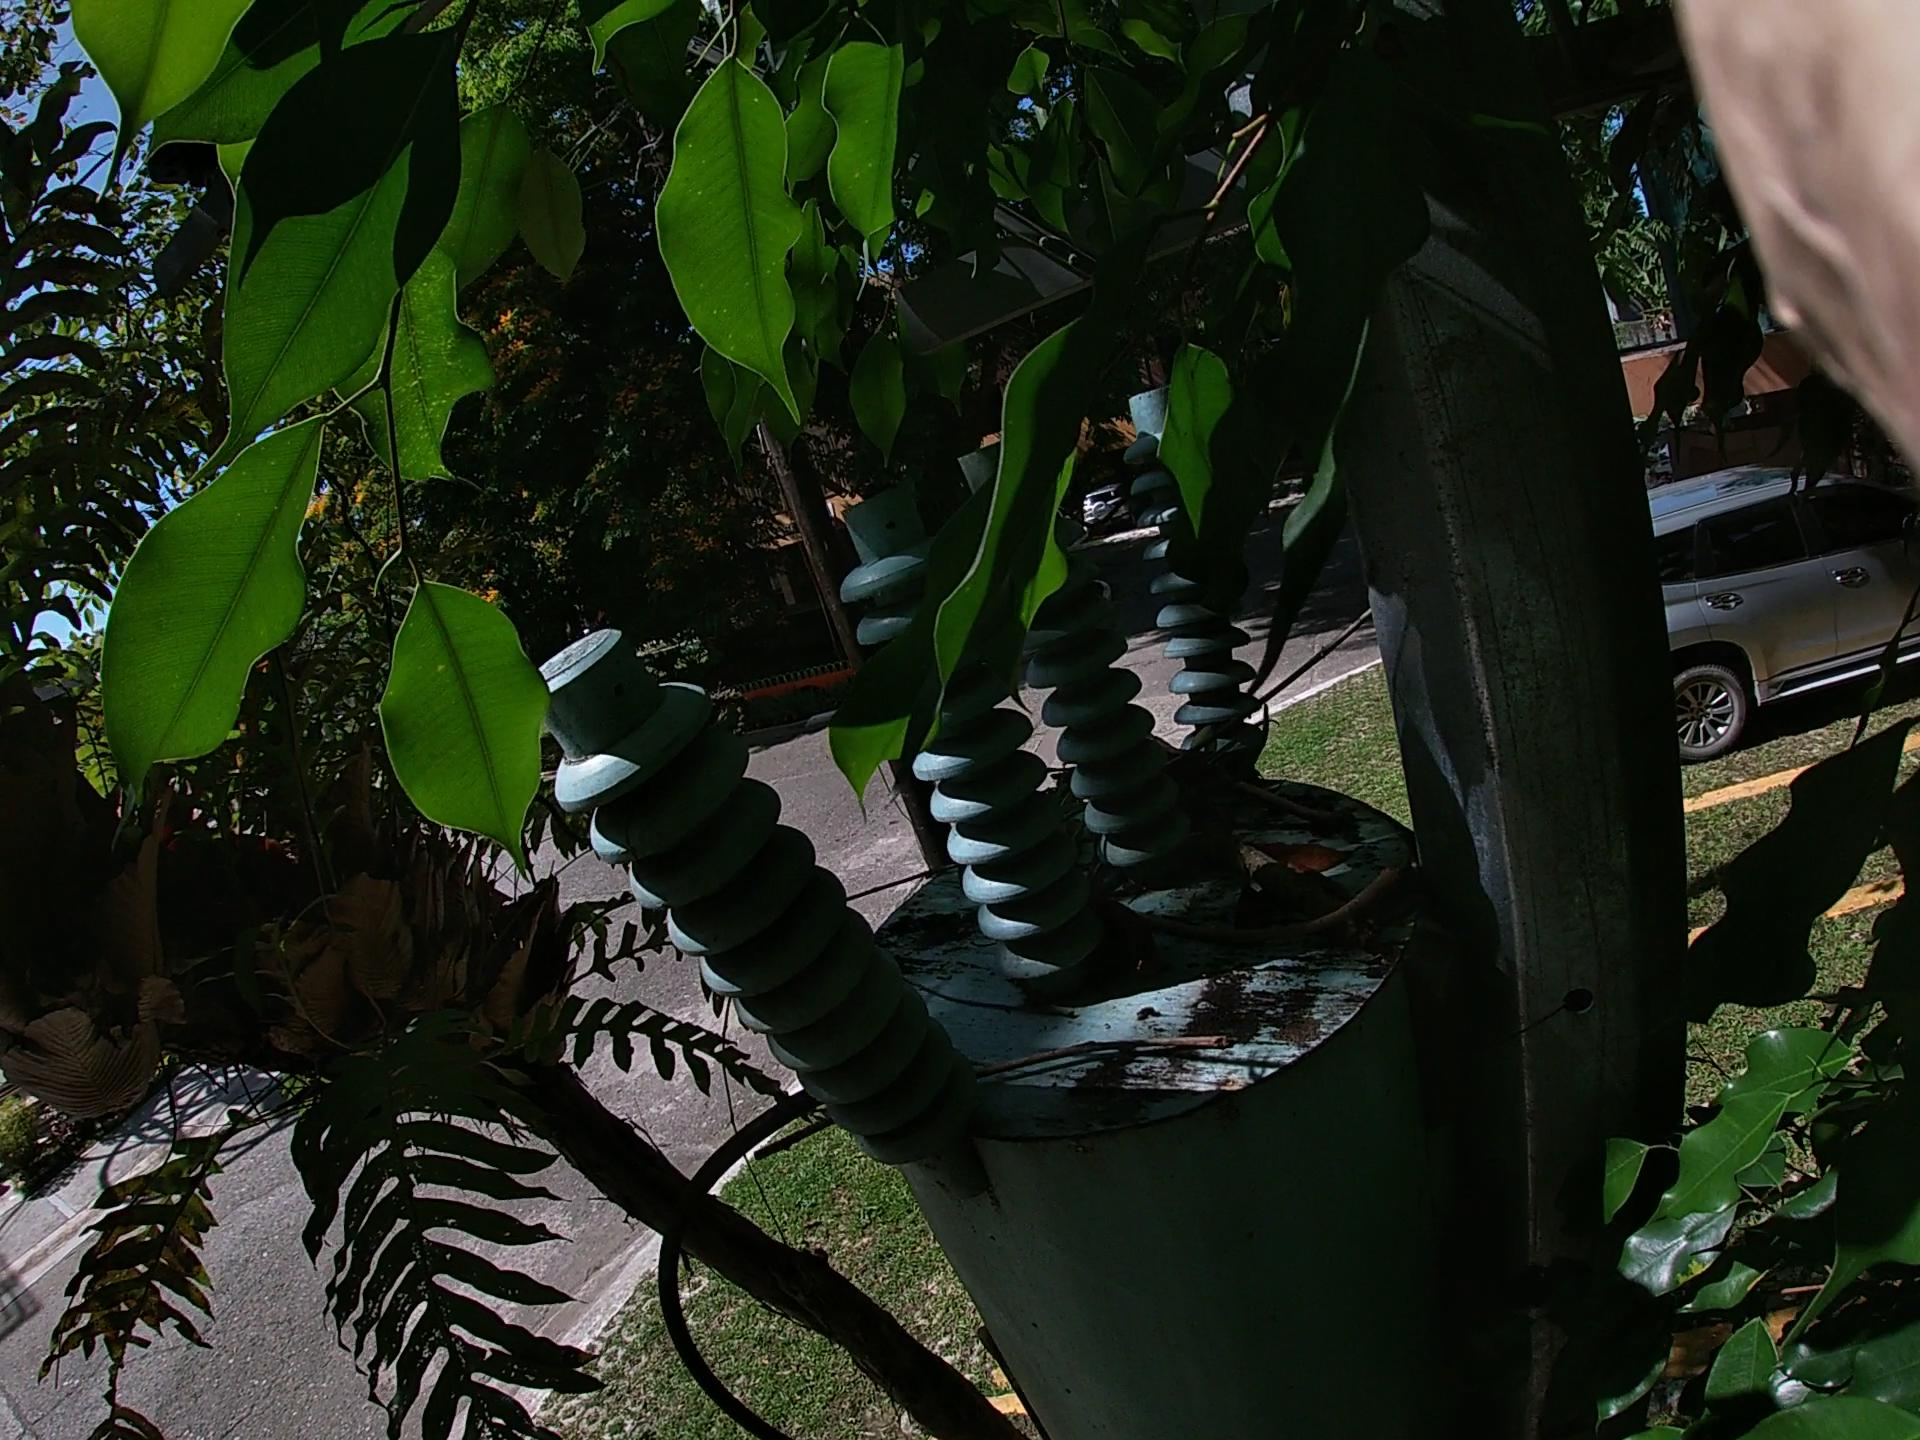leaf: (1285, 830, 1361, 926)
tree branch: (420, 584, 1355, 1190), (717, 991, 1323, 1233), (1138, 762, 1365, 997), (1120, 861, 1463, 976)
